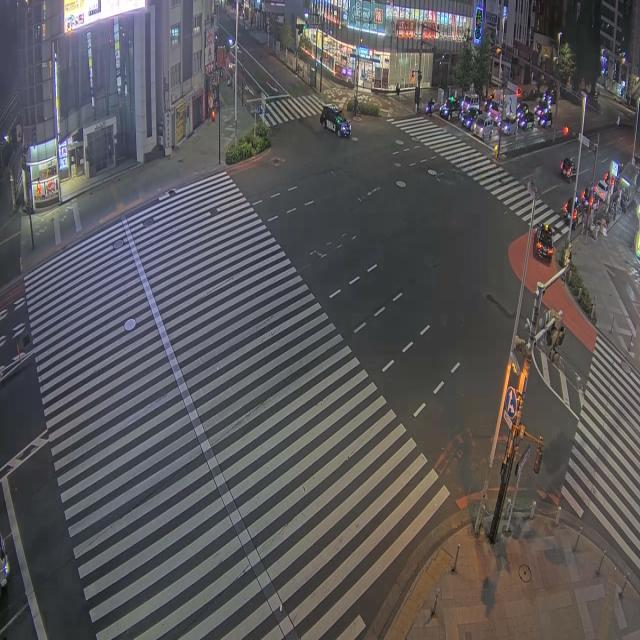car: (320, 105, 350, 136), (534, 224, 553, 262), (562, 199, 583, 228), (471, 114, 493, 140), (440, 97, 461, 119), (460, 107, 480, 130), (499, 114, 517, 135), (560, 158, 575, 182), (461, 94, 479, 111), (533, 98, 549, 116), (518, 112, 533, 130), (594, 181, 607, 201), (536, 112, 551, 127), (516, 103, 528, 118)
motorcycle: (425, 99, 435, 114)
